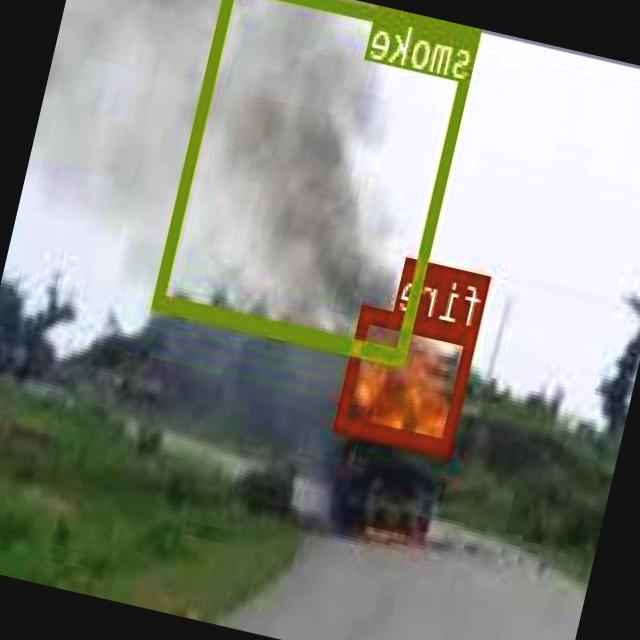fire: (337, 301, 481, 452)
smoke: (154, 0, 484, 362)
